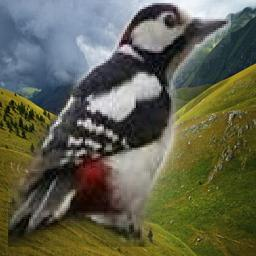Woodpecker: (9, 3, 232, 247)
